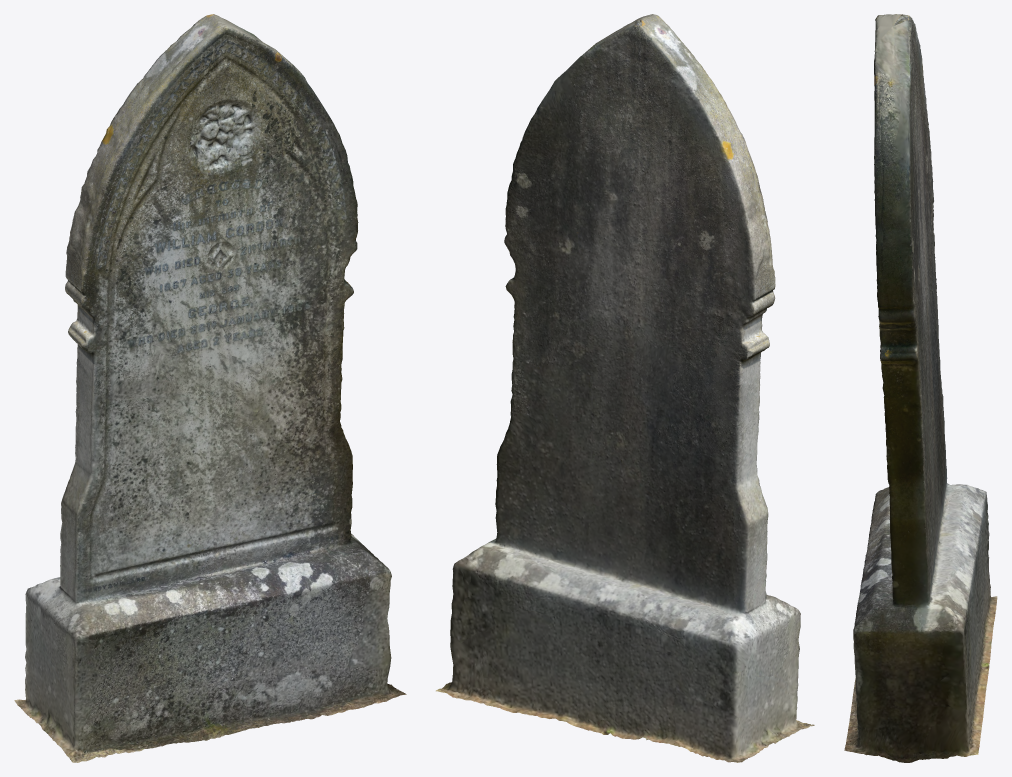
3 renders of one model, left to right at view 1: azimuth 30°, elevation 25°; view 2: azimuth 150°, elevation 25°; view 3: azimuth 270°, elevation 25°, orthographic. The views are drawn at different scales.
Visible parts, largest first — view 1: Mesh_0.001; view 2: Mesh_0.001; view 3: Mesh_0.001.
Part boxes in pixels (left/top/right/bottom): Mesh_0.001: left=14, top=14, right=406, bottom=762; Mesh_0.001: left=436, top=14, right=814, bottom=762; Mesh_0.001: left=844, top=14, right=997, bottom=762.
Size of the model in its own units: 0.7555 by 1.55 by 0.3206.
1 material, 1 textured.
